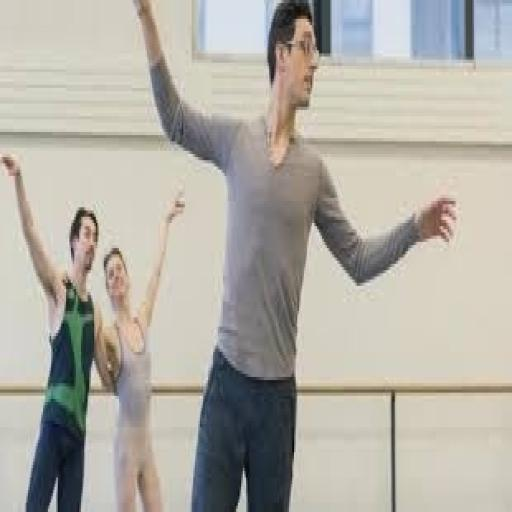dancing: (130, 0, 461, 509), (0, 148, 116, 508)
